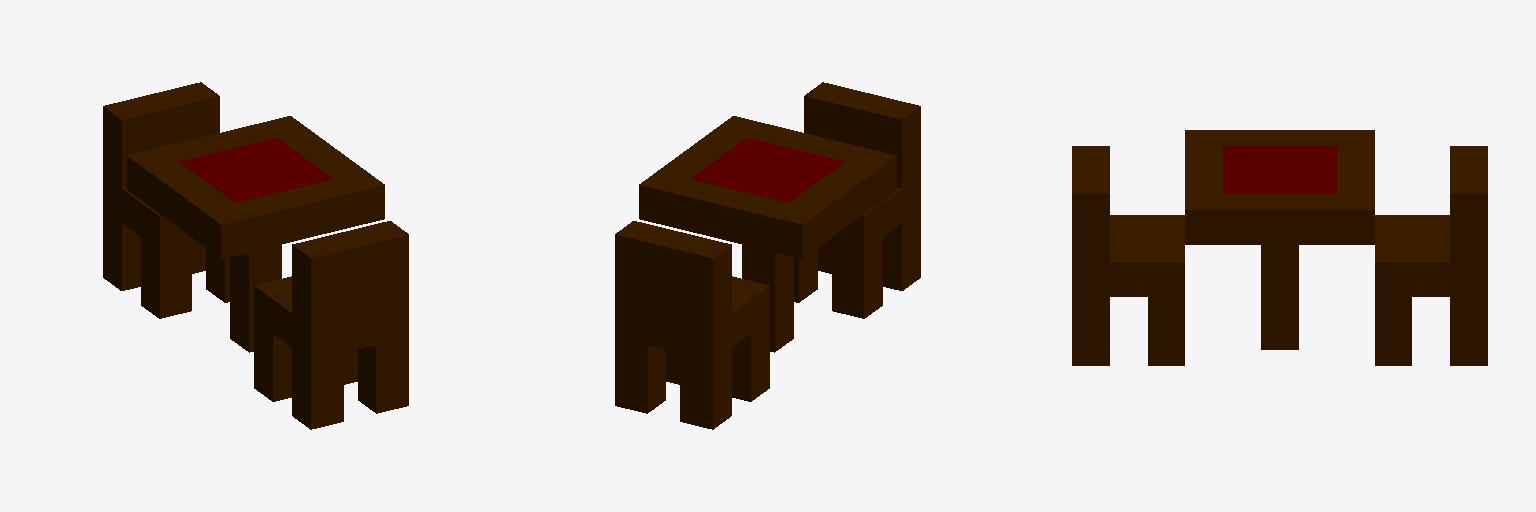
3 renders of one model, left to right at view 1: azimuth 30°, elevation 25°; view 2: azimuth 150°, elevation 25°; view 3: azimuth 270°, elevation 25°, orthographic.
Visible parts, largest first — view 1: object 1; view 2: object 1; view 3: object 1.
Part boxes in pixels (bbox=[...]): object 1: bbox=[103, 82, 408, 429]; object 1: bbox=[615, 82, 920, 429]; object 1: bbox=[1072, 130, 1487, 365].
Size of the model in its own units: 0.5 by 0.5 by 1.1.
1 materials, 1 textured.